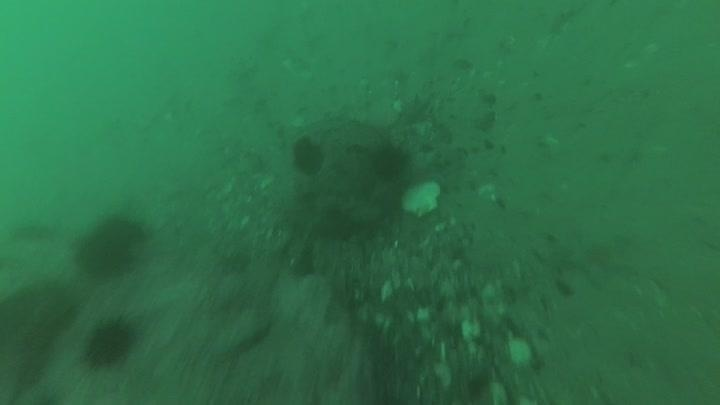echinus: (72, 212, 148, 280), (81, 314, 139, 370), (367, 140, 412, 183), (289, 135, 327, 178)
scallop: (399, 177, 444, 219)
